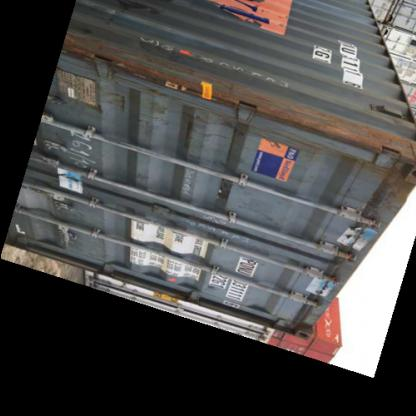Damage: (155, 67, 252, 104), (376, 136, 416, 206), (334, 222, 372, 254), (308, 272, 336, 302), (109, 91, 135, 120)
